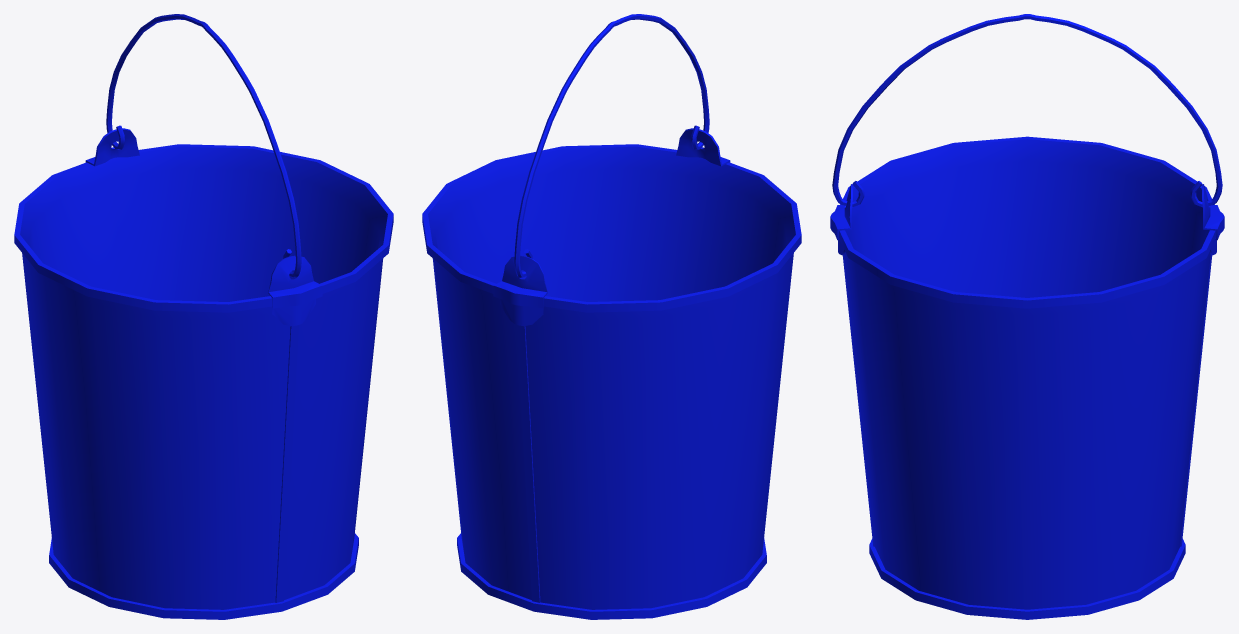
The model's file is bucket.FBX.
3 renders of one model, left to right at view 1: azimuth 30°, elevation 25°; view 2: azimuth 150°, elevation 25°; view 3: azimuth 270°, elevation 25°, orthographic.
Parts seen in each view (by area): view 1: bucket; view 2: bucket; view 3: bucket.
Part boxes in pixels (x1,y1,x2,y2): bucket: (14, 14, 393, 619); bucket: (422, 14, 801, 619); bucket: (830, 14, 1224, 619).
Bounding box in the file's own units: 24.62 × 37.78 × 25.03.
